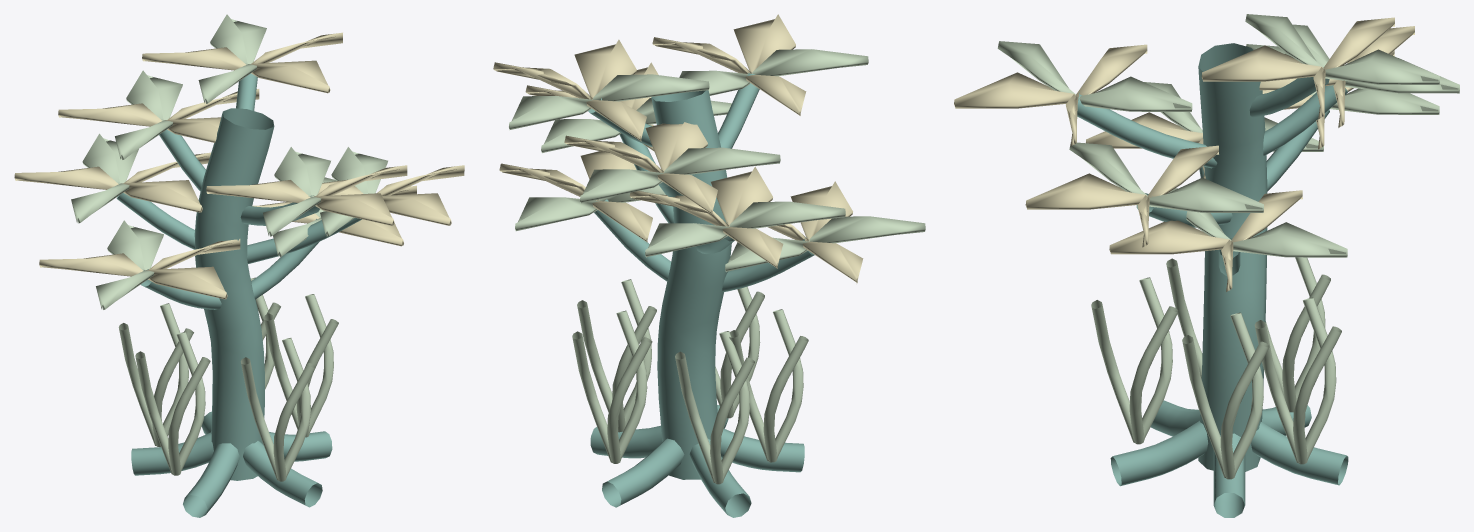
The model's file is bio_canopy_tree_09_far.glb.
3 renders of one model, left to right at view 1: azimuth 30°, elevation 25°; view 2: azimuth 150°, elevation 25°; view 3: azimuth 270°, elevation 25°, orthographic. The views are drawn at different scales.
Visible parts, largest first — view 1: Buttressed trunk, Broad canopy leaf.010, Broad canopy leaf.020, Broad canopy leaf.015, Broad canopy leaf.005, Spiral filament.012, Spiral filament.006, Broad canopy leaf.030, Spiral filament, Spiral filament.003, Broad canopy leaf.025, Broad canopy leaf.016 (+8 smaller); view 2: Buttressed trunk, Broad canopy leaf.010, Broad canopy leaf.015, Broad canopy leaf.005, Broad canopy leaf.030, Spiral filament.009, Spiral filament.003, Broad canopy leaf.031, Broad canopy leaf.006, Broad canopy leaf.016, Spiral filament.012, Broad canopy leaf.021 (+8 smaller); view 3: Buttressed trunk, Spiral filament.006, Spiral filament, Spiral filament.009, Broad canopy leaf.015, Broad canopy leaf.025, Broad canopy leaf.010, Broad canopy leaf, Broad canopy leaf.016, Broad canopy leaf.026, Broad canopy leaf.011, Broad canopy leaf.001 (+7 smaller).
Part boxes in pixels (x1,y1,x2,y2): Buttressed trunk: [116, 73, 361, 517]; Broad canopy leaf.010: [206, 165, 407, 225]; Broad canopy leaf.020: [39, 239, 240, 299]; Broad canopy leaf.015: [142, 32, 342, 93]; Broad canopy leaf.005: [14, 152, 210, 212]; Spiral filament.012: [135, 332, 210, 475]; Spiral filament.006: [240, 338, 315, 481]; Broad canopy leaf.030: [58, 89, 259, 142]; Spiral filament: [263, 294, 338, 437]; Spiral filament.003: [118, 303, 193, 446]; Broad canopy leaf.025: [318, 165, 464, 225]; Broad canopy leaf.016: [198, 14, 266, 103]; Buttressed trunk: [588, 73, 814, 517]; Broad canopy leaf.010: [652, 14, 806, 115]; Broad canopy leaf.015: [493, 39, 646, 141]; Broad canopy leaf.005: [629, 166, 783, 268]; Broad canopy leaf.030: [564, 122, 717, 214]; Spiral filament.009: [572, 310, 652, 463]; Spiral filament.003: [675, 331, 754, 484]; Broad canopy leaf.031: [580, 147, 780, 203]; Broad canopy leaf.006: [645, 201, 845, 257]; Broad canopy leaf.016: [509, 74, 709, 130]; Spiral filament.012: [729, 309, 808, 462]; Broad canopy leaf.021: [725, 216, 925, 271]; Buttressed trunk: [1077, 43, 1348, 517]; Spiral filament.006: [1091, 277, 1178, 444]; Spiral filament: [1182, 312, 1269, 479]; Spiral filament.009: [1254, 297, 1341, 464]; Broad canopy leaf.015: [1201, 17, 1394, 119]; Broad canopy leaf.025: [1025, 145, 1218, 247]; Broad canopy leaf.010: [954, 44, 1147, 146]; Broad canopy leaf: [1109, 190, 1302, 291]; Broad canopy leaf.016: [1245, 14, 1439, 84]; Broad canopy leaf.026: [1069, 142, 1263, 212]; Broad canopy leaf.011: [997, 41, 1192, 111]; Broad canopy leaf.001: [1169, 188, 1347, 257].
Size of the model in its own units: 2.97 by 2.99 by 3.05.
